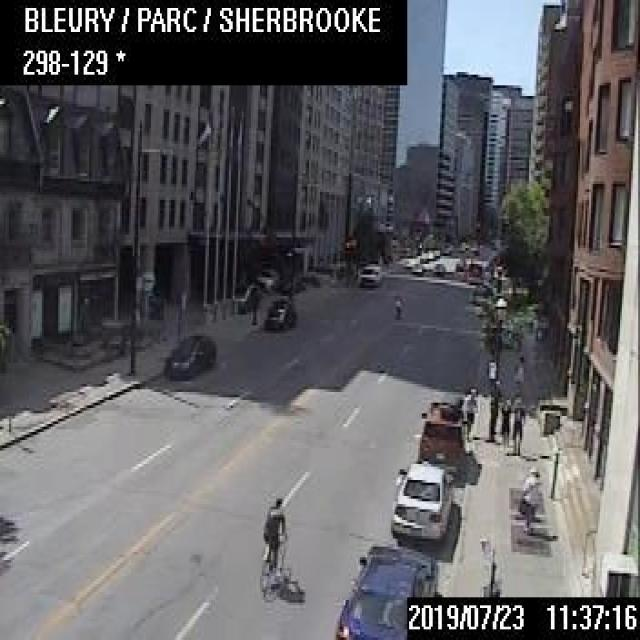cyclist: (256, 493, 291, 600), (391, 293, 403, 320)
pedestrian: (517, 464, 539, 534), (509, 394, 524, 454), (462, 384, 477, 442), (498, 395, 510, 450)
vehicle: (331, 541, 436, 637), (389, 460, 452, 538), (416, 398, 463, 470), (162, 334, 215, 379), (262, 296, 293, 329), (231, 281, 258, 305), (356, 261, 381, 286), (255, 266, 278, 288), (465, 258, 482, 282), (432, 261, 444, 274), (410, 261, 420, 272)
